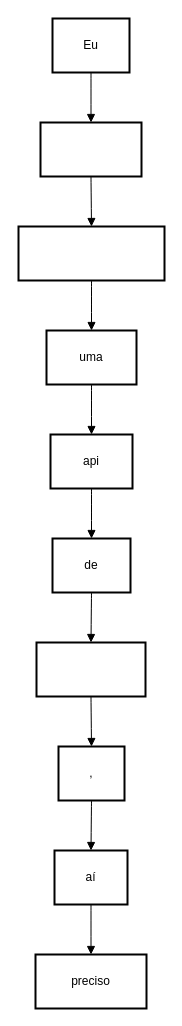
This 182x1026 diagram has some shape labels left out. Each missing label, with the centre of its shape:
"desenvolver" goes at (91,253).
"música" goes at (90,669).
"quero" goes at (90,149).
